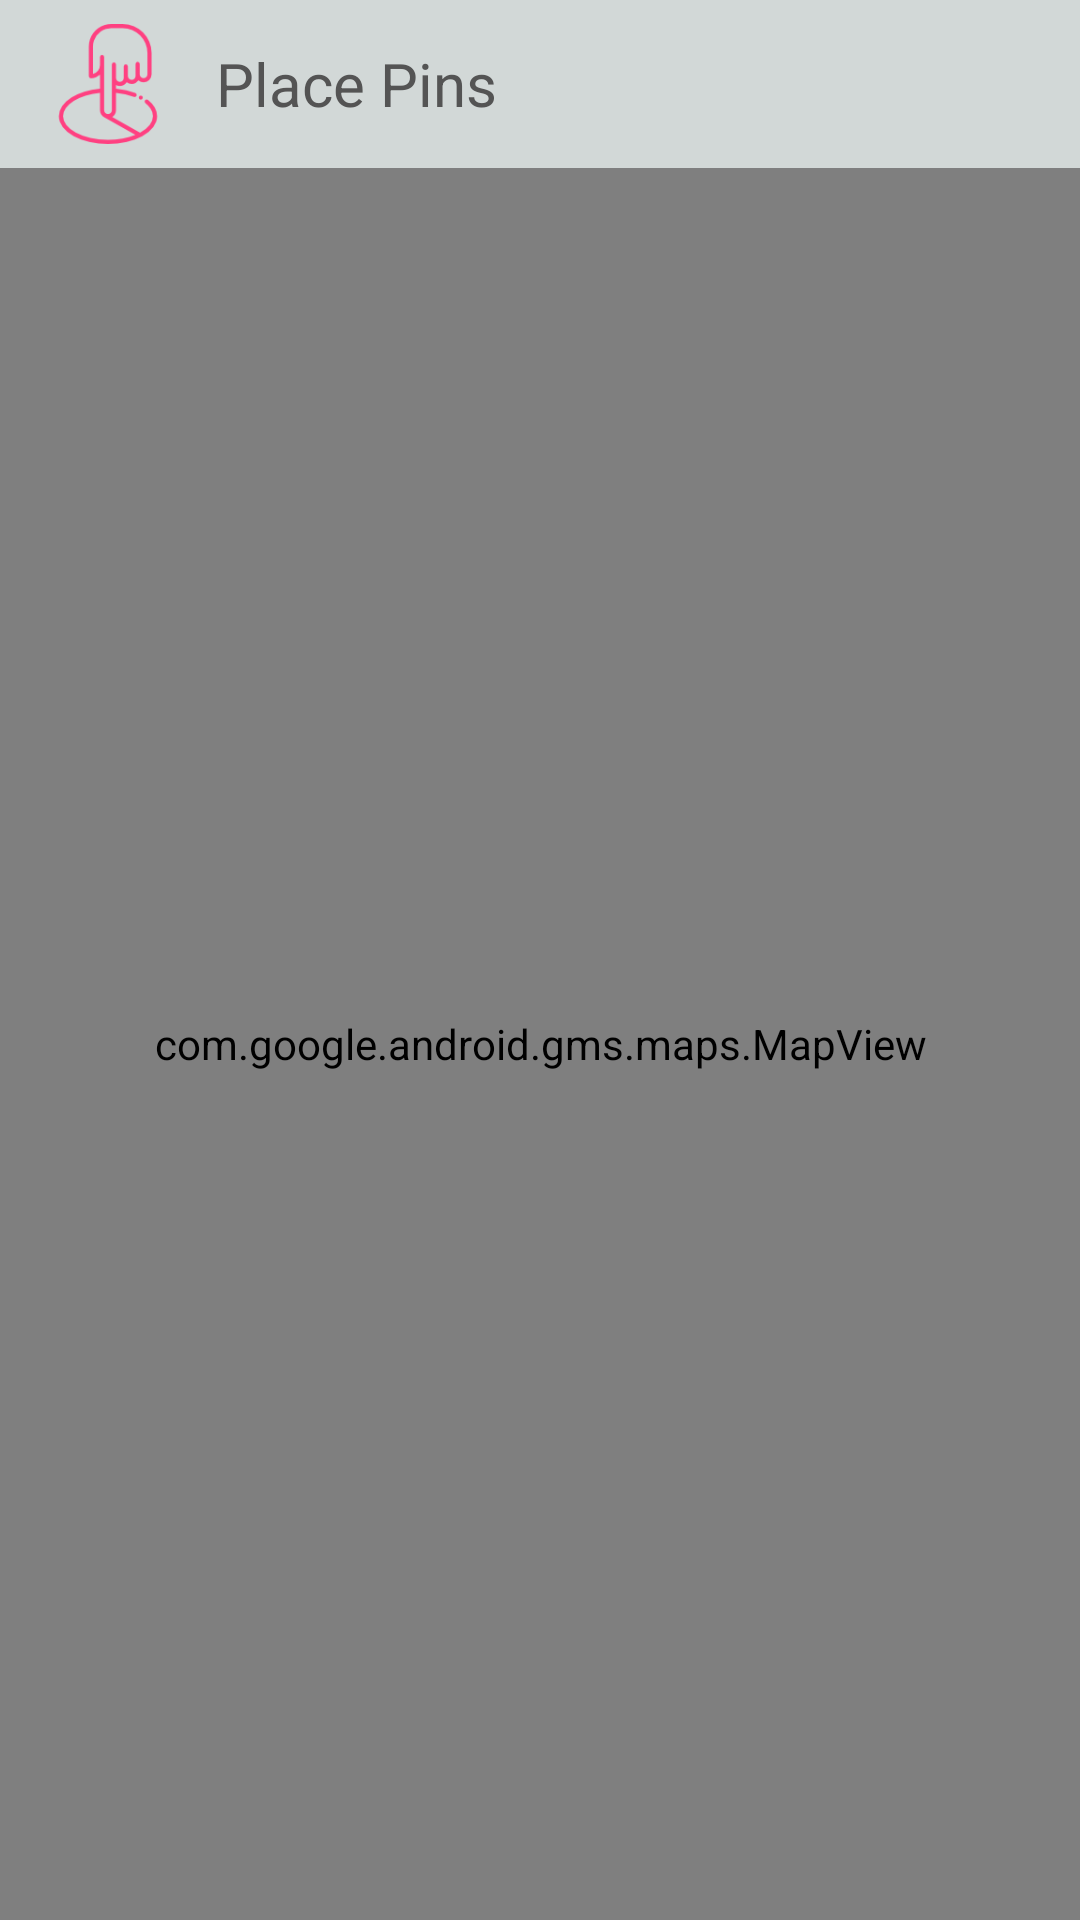

Where icons sit on this 1080px x 1920px app screen, as bbox(x1, y1, x2, y2):
position: bbox(58, 24, 158, 144)
